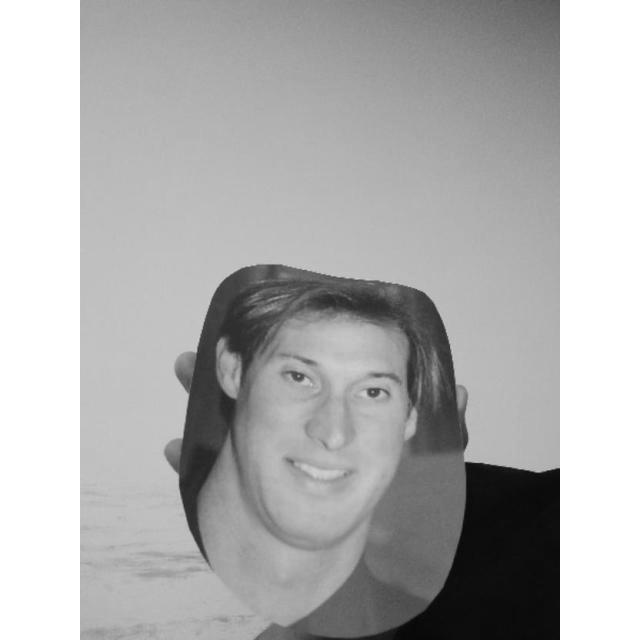fake: (162, 250, 472, 638)
